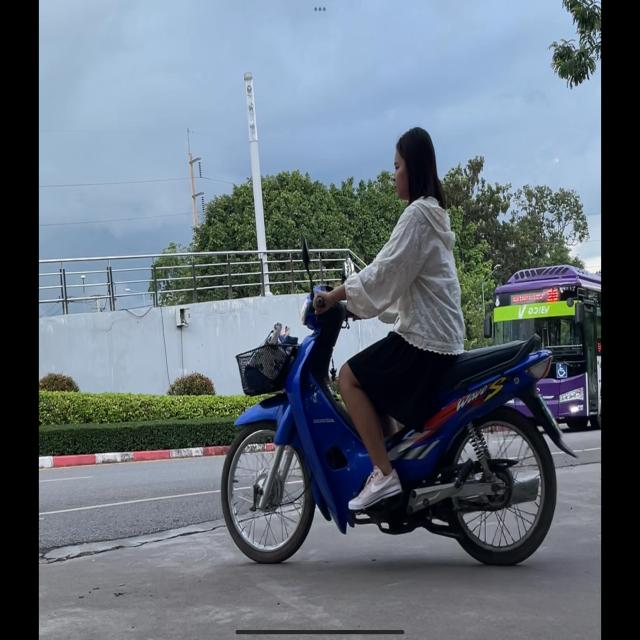seatbelt: (392, 125, 442, 202)
